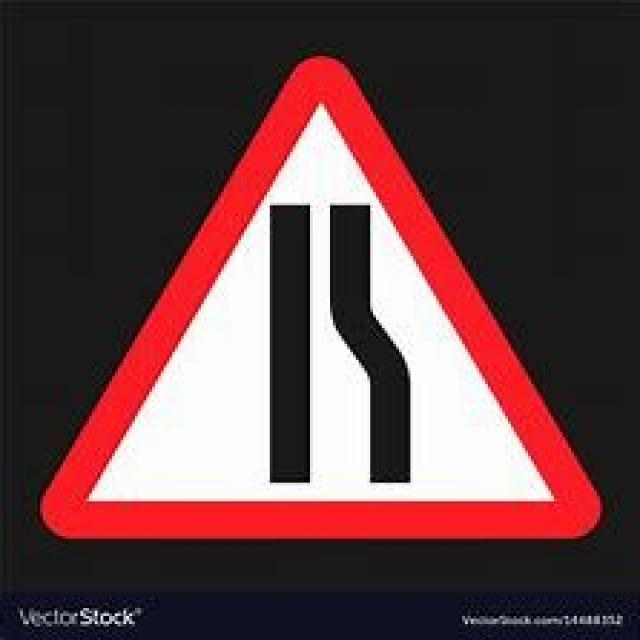NARROW_ROAD_AHEAD: (34, 51, 600, 538)
